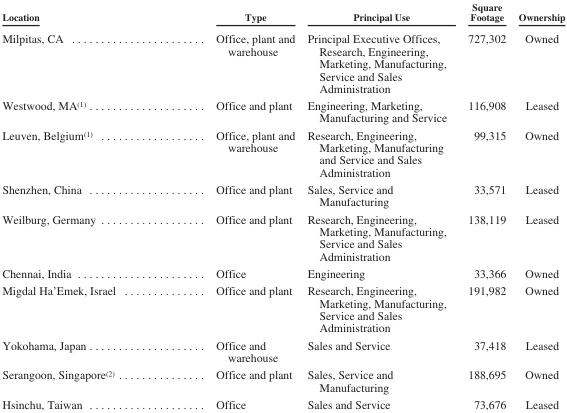table: (1, 1, 564, 410)
table column: (1, 1, 165, 410), (300, 1, 456, 410), (165, 1, 300, 410), (456, 1, 511, 410), (511, 1, 564, 410)
table column header: (1, 1, 564, 27)
table row: (1, 27, 564, 96), (1, 281, 564, 336), (1, 126, 564, 180), (1, 210, 564, 264), (1, 96, 564, 126), (1, 180, 564, 210), (1, 365, 564, 395), (1, 336, 564, 365), (1, 1, 564, 27), (1, 264, 564, 281), (1, 395, 564, 410)
